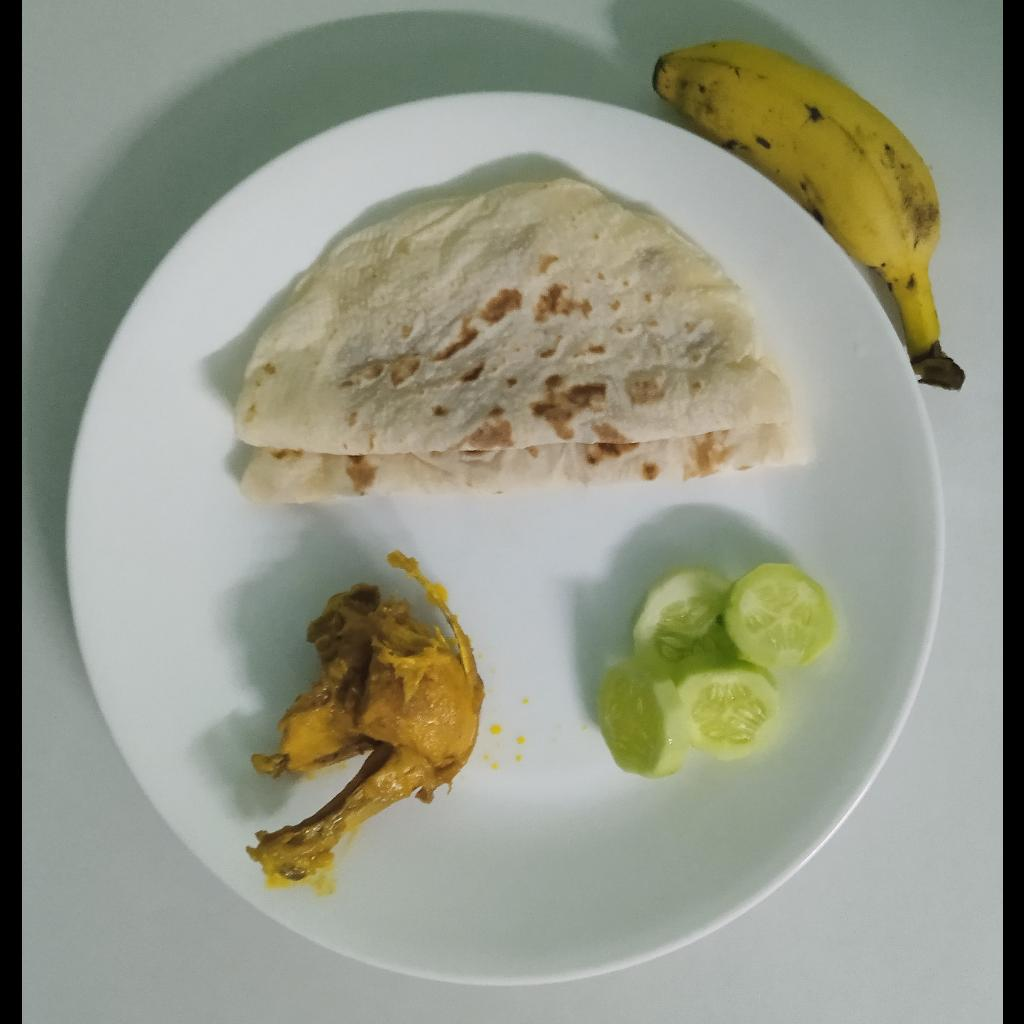banana: (652, 35, 967, 391)
chicken: (248, 546, 488, 890)
cucumber: (593, 562, 837, 774)
ruti: (233, 173, 815, 506)
